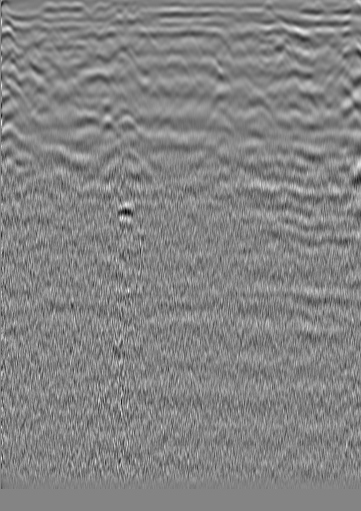가스: (107, 199, 138, 221)
상수: (24, 40, 44, 60)
오수: (304, 34, 324, 54)
우수: (162, 40, 182, 60)
